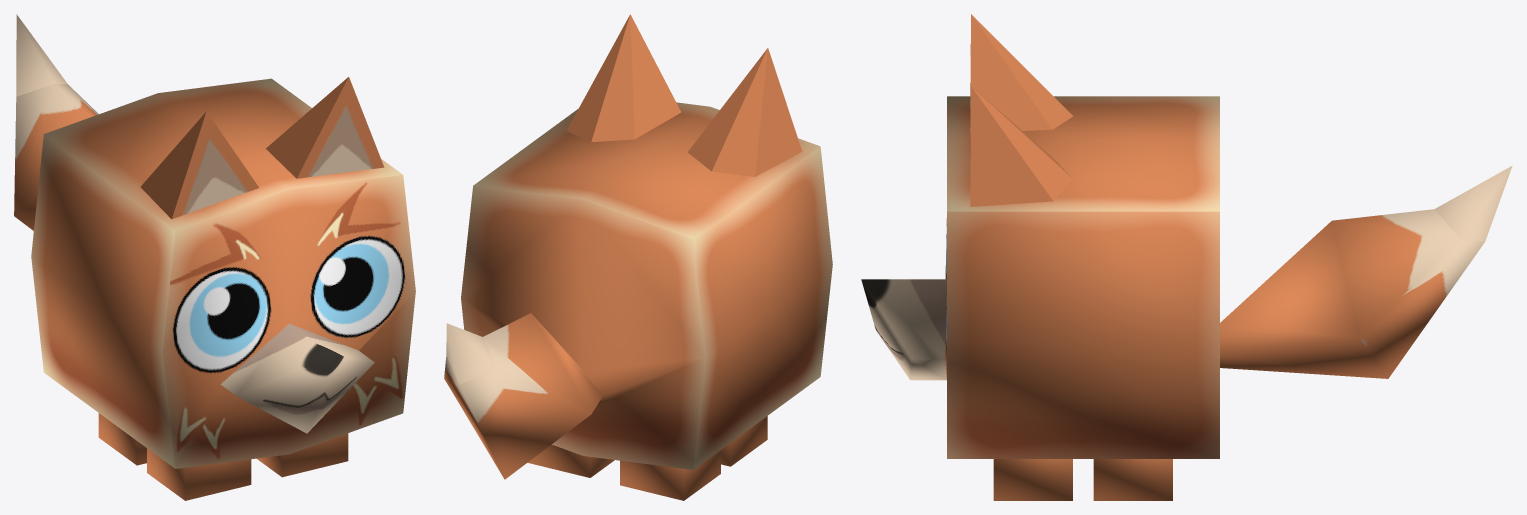
File: cat.glb
3 renders of one model, left to right at view 1: azimuth 30°, elevation 25°; view 2: azimuth 150°, elevation 25°; view 3: azimuth 270°, elevation 25°, orthographic. The views are drawn at different scales.
Visible parts, largest first — view 1: Cone; view 2: Cone; view 3: Cone.
Part boxes in pixels (<box>): Cone: <box>14,14,415,500</box>; Cone: <box>444,14,832,500</box>; Cone: <box>861,14,1512,500</box>.
Size of the model in its own units: 10 by 14.91 by 21.48.
Materials: 1 (1 with a texture image).
